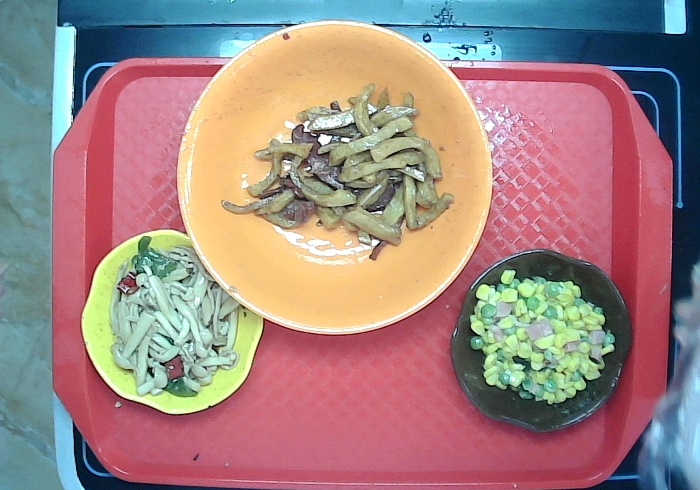YKMZ-Huang_Se_Ao_Bian_Wan: (81, 225, 267, 416)
YKMZ-Ju_Se_Tang_Wan: (177, 21, 492, 336)
YKMZ-Ka_Fei_Ao_Bian_Wan: (450, 246, 631, 435)
